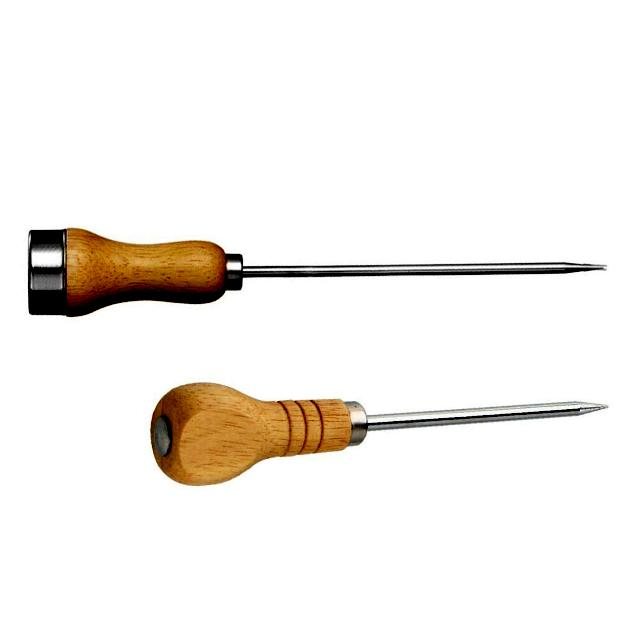ice pick: (26, 226, 608, 320), (148, 380, 610, 488)
